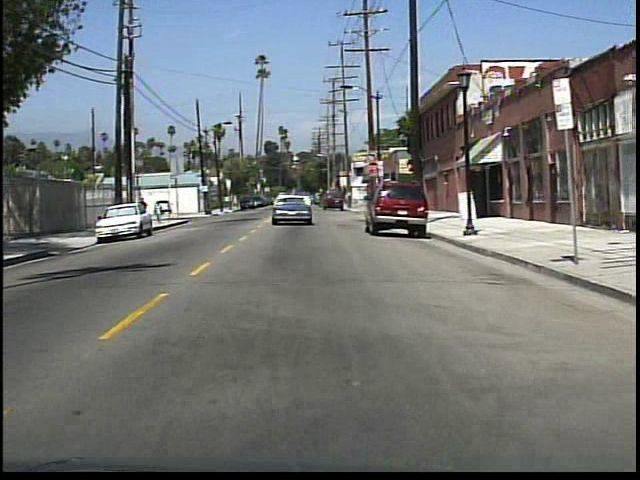person: (136, 195, 152, 228), (152, 198, 166, 225)
